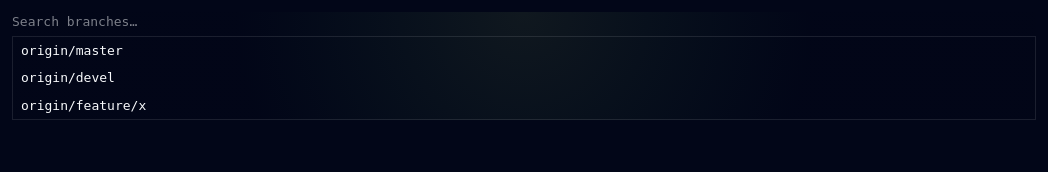
Scenario: BaseBranchSelect › filters options by the search query
Type "dev" into the dropdown at (96, 22), box [12, 12, 181, 32]
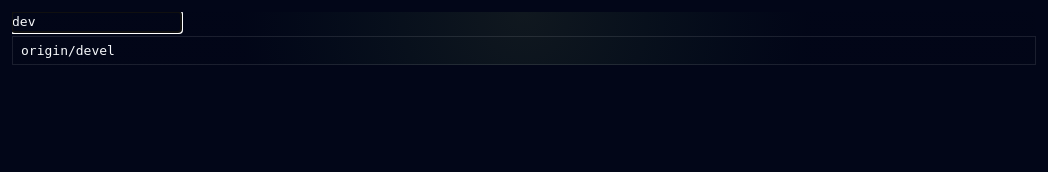
Check: the option "origin/devel" is shown, box [13, 36, 1035, 64]
Check: the option "origin/master" is gone
